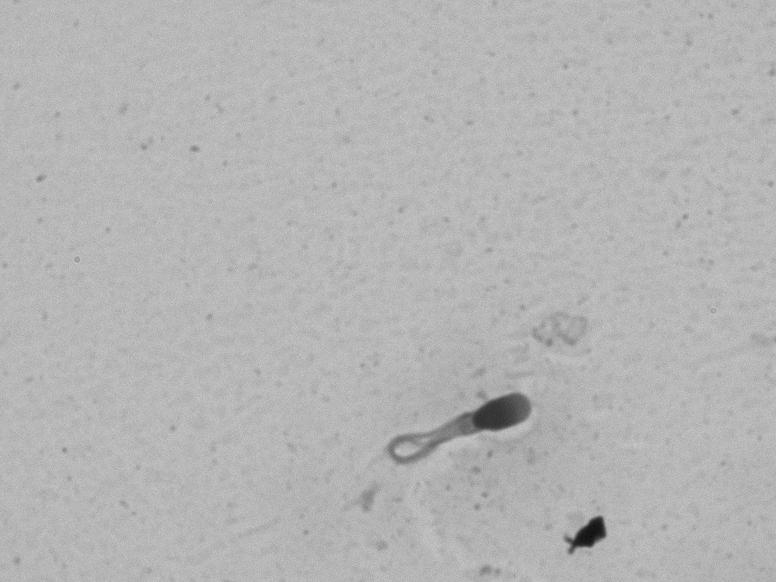Abnormal: (349, 360, 542, 482)
